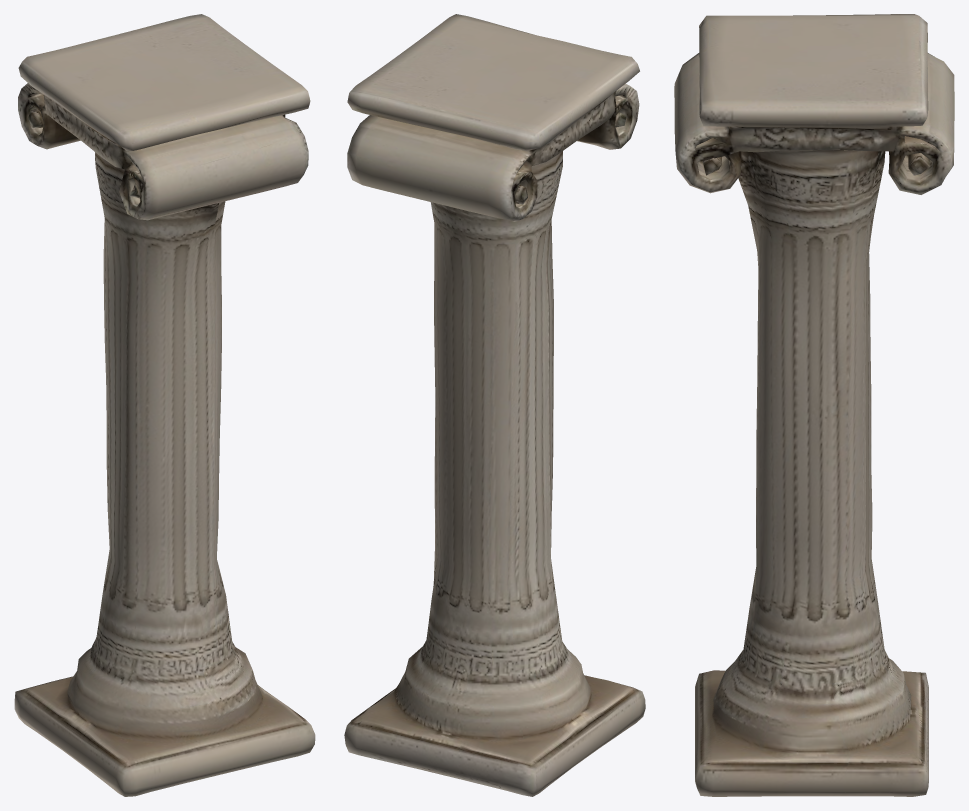
The model's file is tripo_convert_7caab535-03bb-479a-ae78-a670fb3939bf.fbx.
3 views of the same model, side by side, from view 1: azimuth 30°, elevation 25°; view 2: azimuth 150°, elevation 25°; view 3: azimuth 270°, elevation 25° (orthographic). The views are drawn at different scales.
Parts seen in each view (by area): view 1: tripo_node_7caab535; view 2: tripo_node_7caab535; view 3: tripo_node_7caab535.
Part boxes in pixels (box(x1,y1,x2,y2)): tripo_node_7caab535: box(14, 14, 315, 796); tripo_node_7caab535: box(344, 14, 645, 796); tripo_node_7caab535: box(674, 14, 954, 796).
Bounding box in the file's own units: 0.305 × 0.9999 × 0.367.
Materials: 1 (1 with a texture image).
